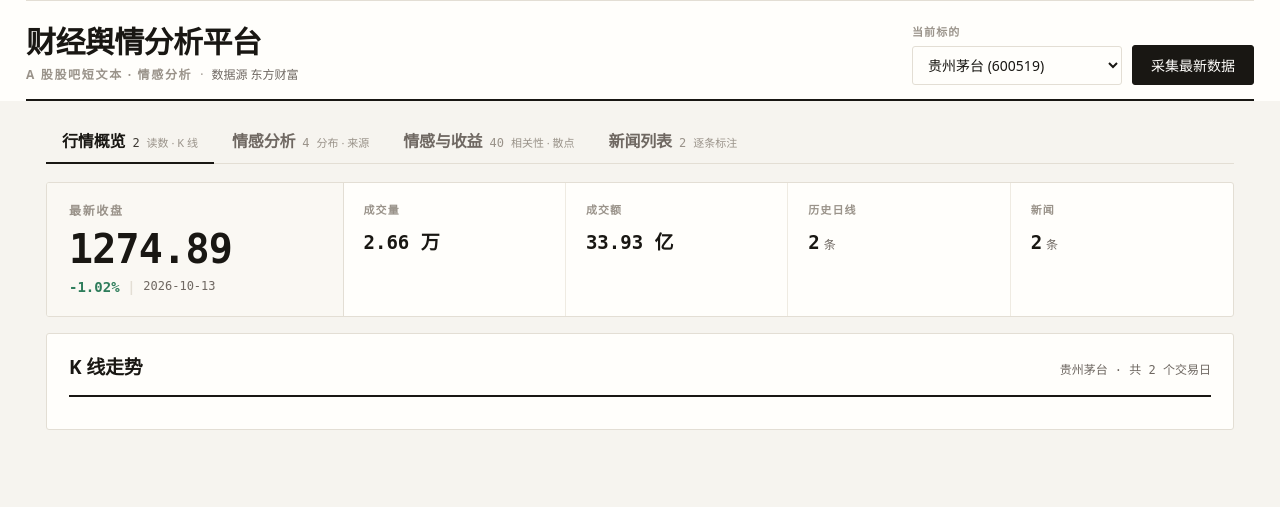
it: App 集成 › 点击采集按钮后显示采集结果
Click the button "采集最新数据" at (1193, 65), box [1132,45,1254,85]
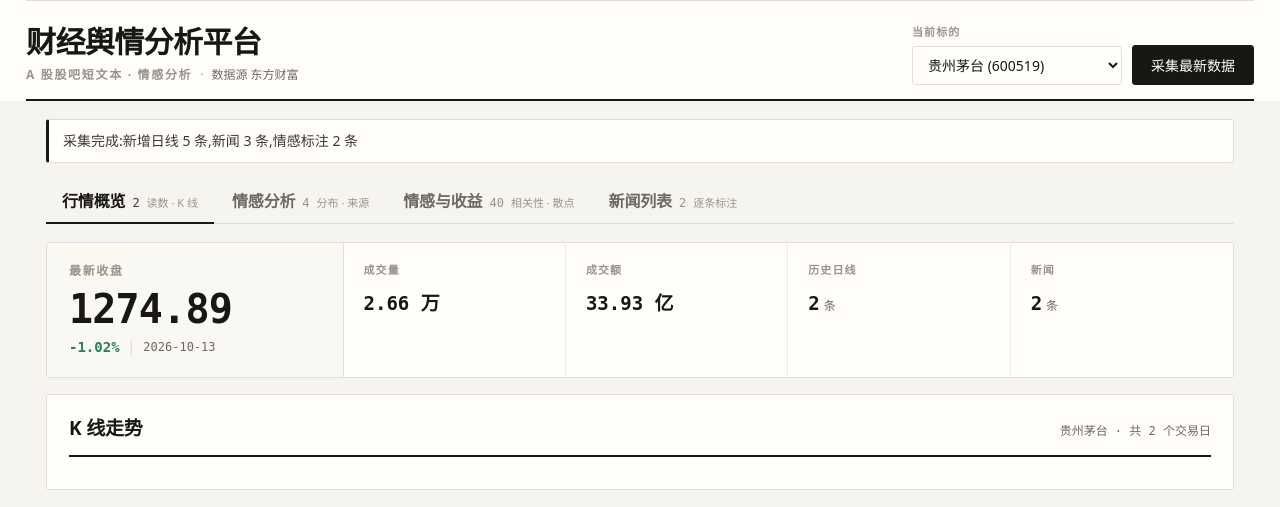
Expected: the text "采集完成" is shown, [63,131,358,150]
Expected: the text "新增日线 5 条" is shown, [63,131,358,150]
